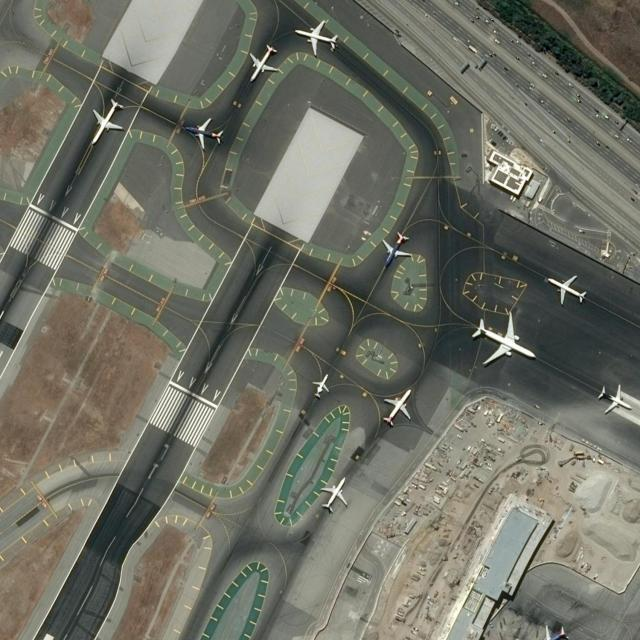Aircraft: (473, 313, 537, 367), (296, 19, 340, 58), (92, 100, 125, 145), (184, 119, 224, 152), (247, 45, 280, 85), (550, 274, 588, 306), (381, 390, 413, 427), (382, 232, 413, 270), (321, 477, 348, 515), (598, 385, 632, 415), (538, 624, 572, 640), (313, 375, 331, 399)
